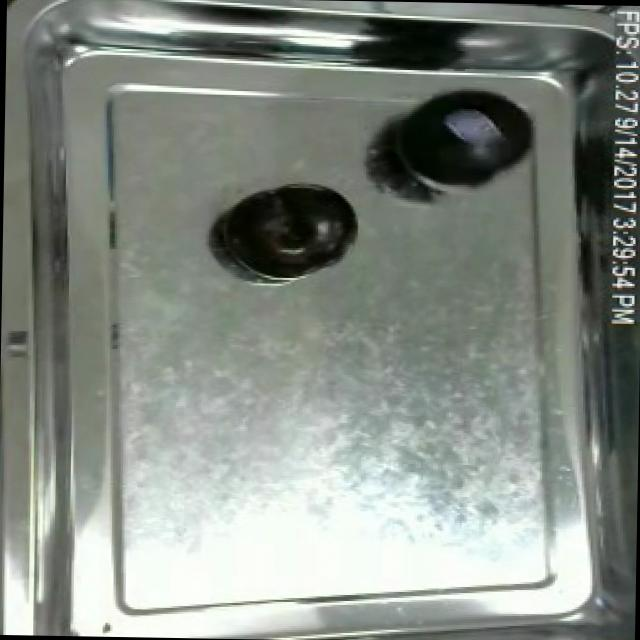Fruit: (216, 178, 358, 274)
